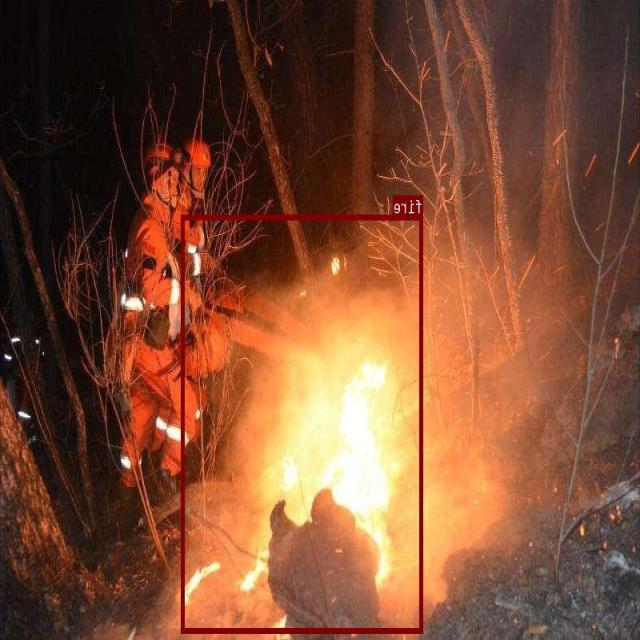fire: (182, 213, 424, 632)
